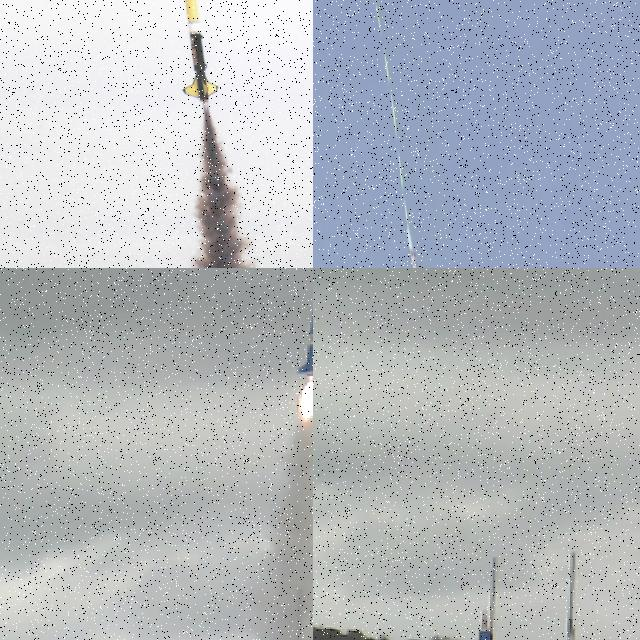Rocket: (181, 0, 220, 104), (295, 284, 313, 377), (406, 226, 428, 268), (466, 608, 494, 640)
